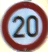20 km speed: (1, 1, 48, 51)
